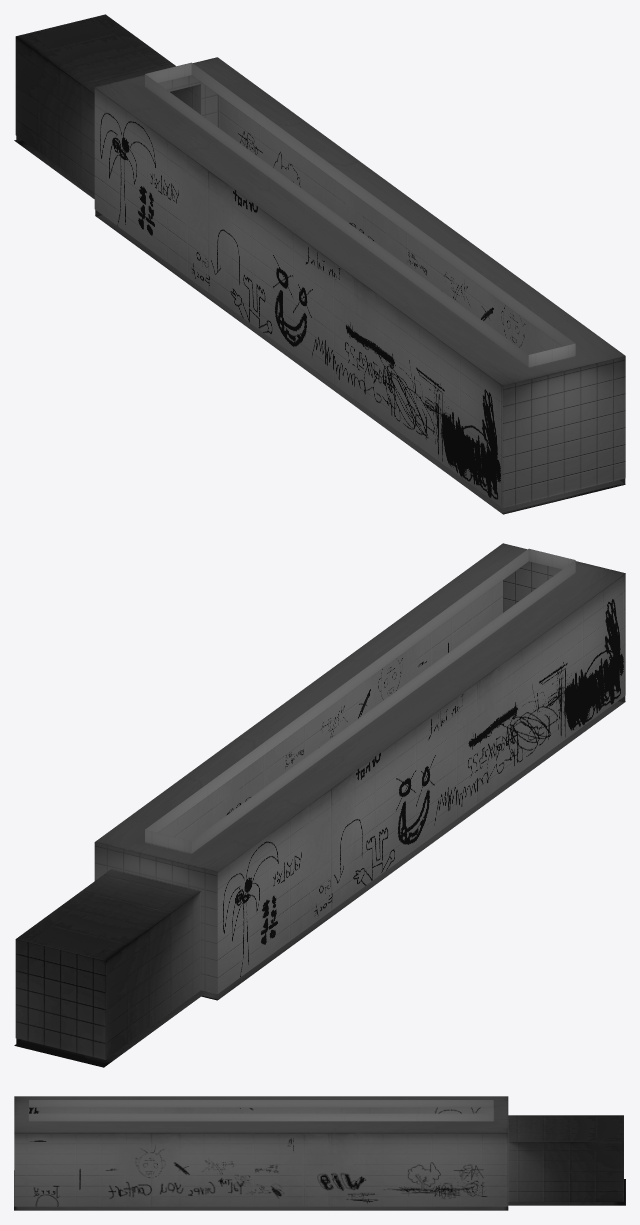
Rendered from aaa.glb.
3 renders of one model, top to bottom at view 1: azimuth 30°, elevation 25°; view 2: azimuth 150°, elevation 25°; view 3: azimuth 270°, elevation 25°, orthographic. The views are drawn at different scales.
Parts seen in each view (by area): view 1: Cube_0; view 2: Cube_0; view 3: Cube_0.
Boxes of the visible parts, x1,y1,x2,y2 form: Cube_0: [14, 14, 625, 514]; Cube_0: [14, 543, 625, 1067]; Cube_0: [14, 1096, 625, 1210].
Bounding box in the file's own units: 4.2 × 4.62 × 29.95.
Materials: 3 (3 with a texture image).
